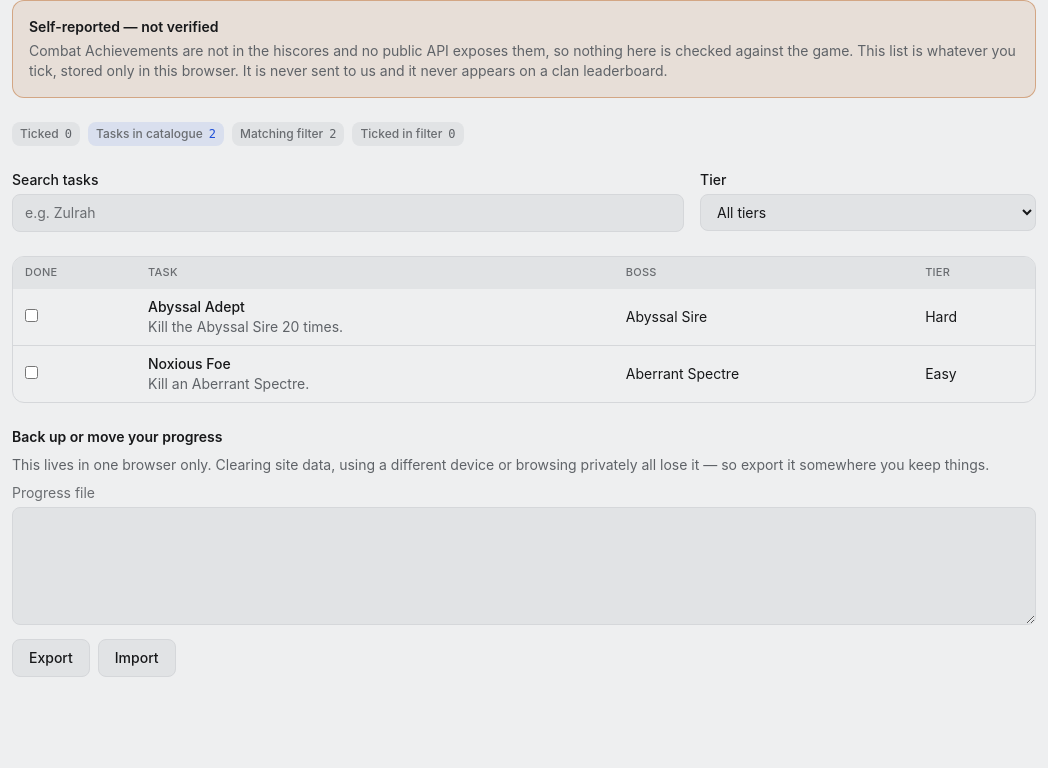
CombatAchievementTracker › states an empty filter result rather than showing a blank table
Type "zzzzzz" into the field labelled "Search tasks" at (348, 213), box [12, 194, 684, 232]
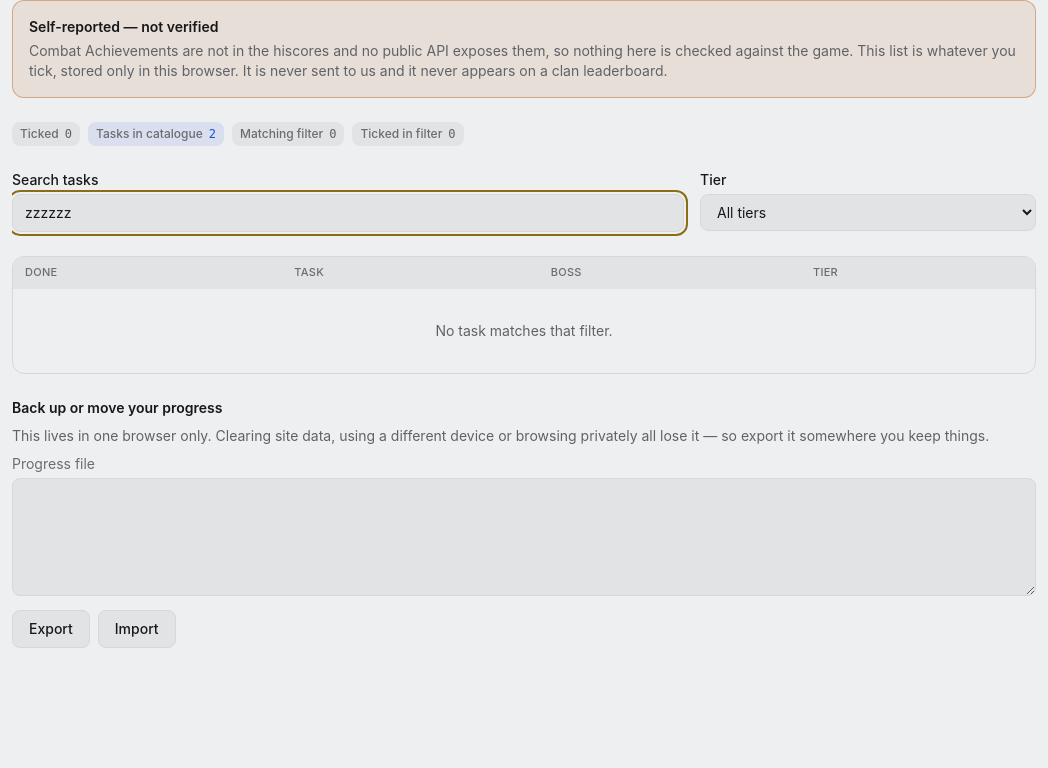
Now the text "No task matches that filter." is shown, box [13, 289, 1035, 373]
